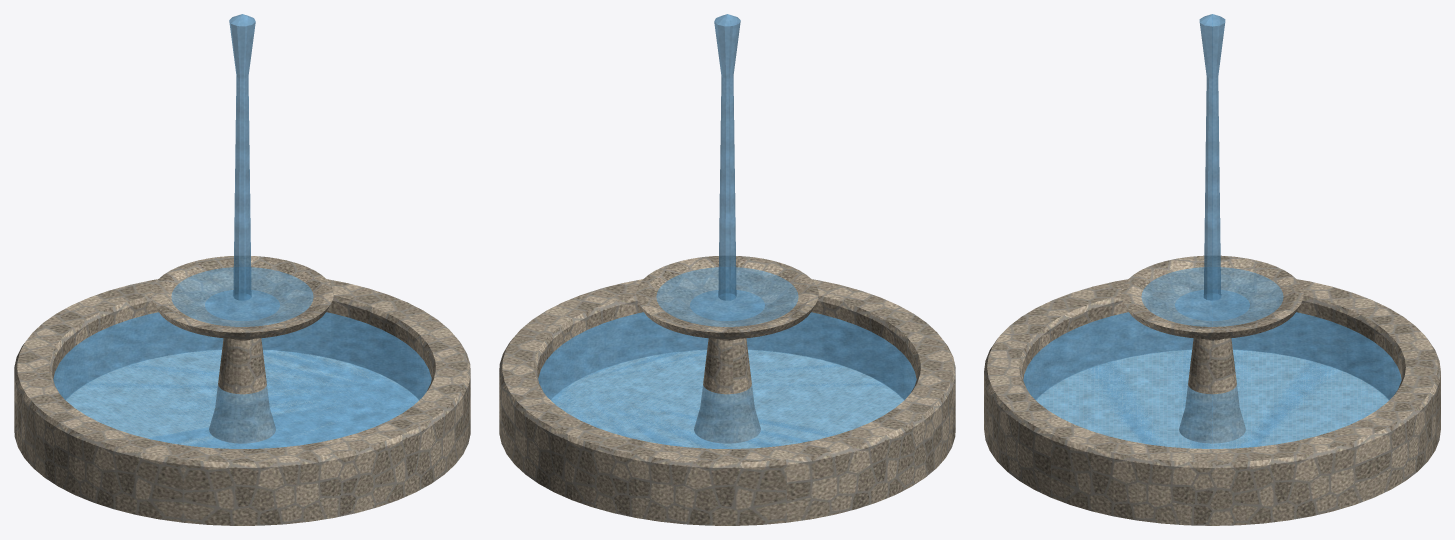
The picture shows the model from 3 angles, left to right: view 1: azimuth 30°, elevation 25°; view 2: azimuth 150°, elevation 25°; view 3: azimuth 270°, elevation 25°; orthographic projection.
Visible parts, largest first — view 1: basinDiameter=3;basinHeight=0.45;basinMaterial=stone_wall;je (×3); view 2: basinDiameter=3;basinHeight=0.45;basinMaterial=stone_wall;je (×3); view 3: basinDiameter=3;basinHeight=0.45;basinMaterial=stone_wall;je (×3).
Part boxes in pixels (box(x1,y1,x2,y2)): basinDiameter=3;basinHeight=0.45;basinMaterial=stone_wall;je (×3): box(14, 14, 470, 525); basinDiameter=3;basinHeight=0.45;basinMaterial=stone_wall;je (×3): box(499, 14, 955, 525); basinDiameter=3;basinHeight=0.45;basinMaterial=stone_wall;je (×3): box(984, 14, 1440, 525).
Bounding box in the file's own units: 3 × 3 × 3.11.
Materials: 3 (3 with a texture image).
